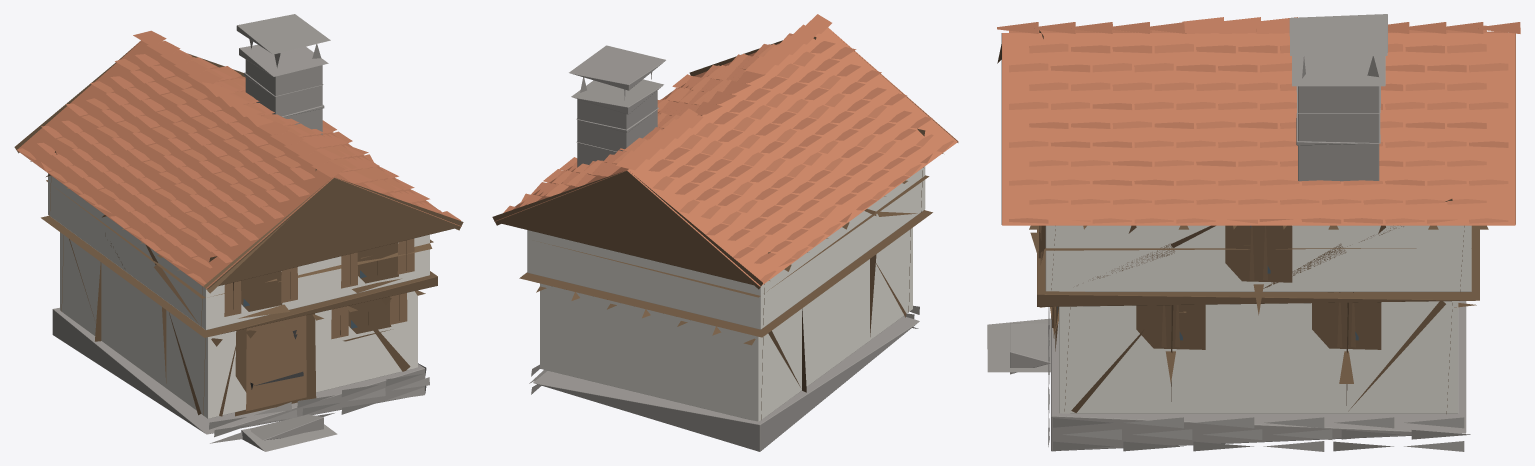
Rendered from Smoke_MedievalHome.glb.
The picture shows the model from 3 angles, left to right: view 1: azimuth 30°, elevation 25°; view 2: azimuth 150°, elevation 25°; view 3: azimuth 270°, elevation 25°; orthographic projection. The views are drawn at different scales.
Visible parts, largest first — view 1: Smoke_MedievalHome; view 2: Smoke_MedievalHome; view 3: Smoke_MedievalHome.
Part boxes in pixels (box(x1,y1,x2,y2)): Smoke_MedievalHome: box(14, 14, 463, 451); Smoke_MedievalHome: box(492, 14, 958, 451); Smoke_MedievalHome: box(987, 14, 1520, 451).
Size of what is drawn, in the model's own units: 4.18 by 4.03 by 4.93.
